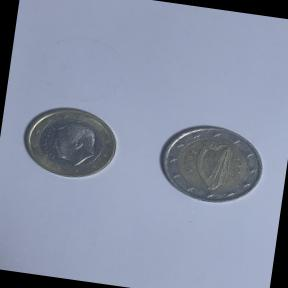coin: (145, 111, 273, 216), (12, 97, 126, 189)
